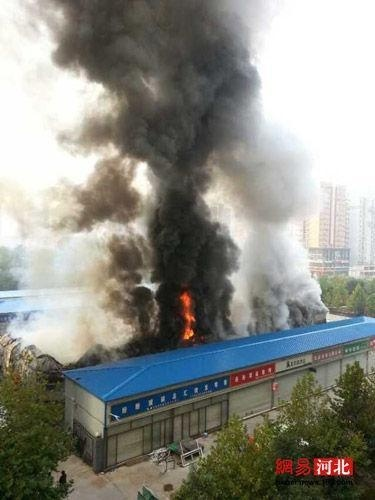fire: (179, 294, 198, 342)
